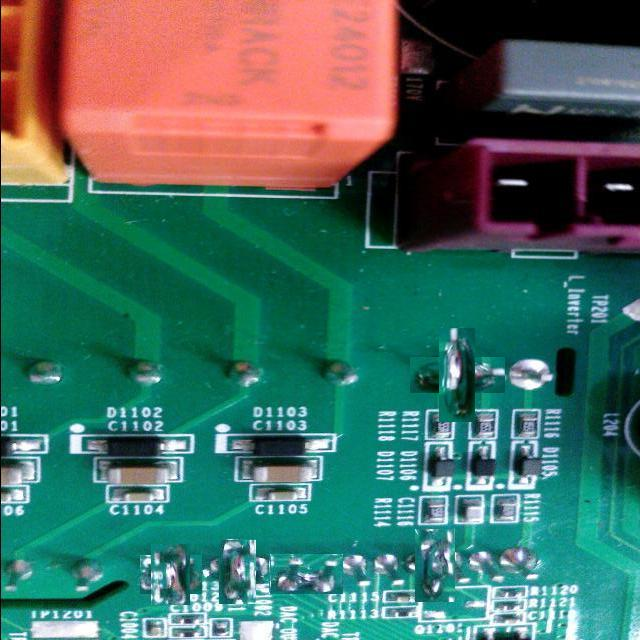Short_circuit: (425, 342, 490, 408), (406, 537, 464, 594), (270, 553, 344, 594), (212, 546, 263, 597), (146, 549, 196, 600)
